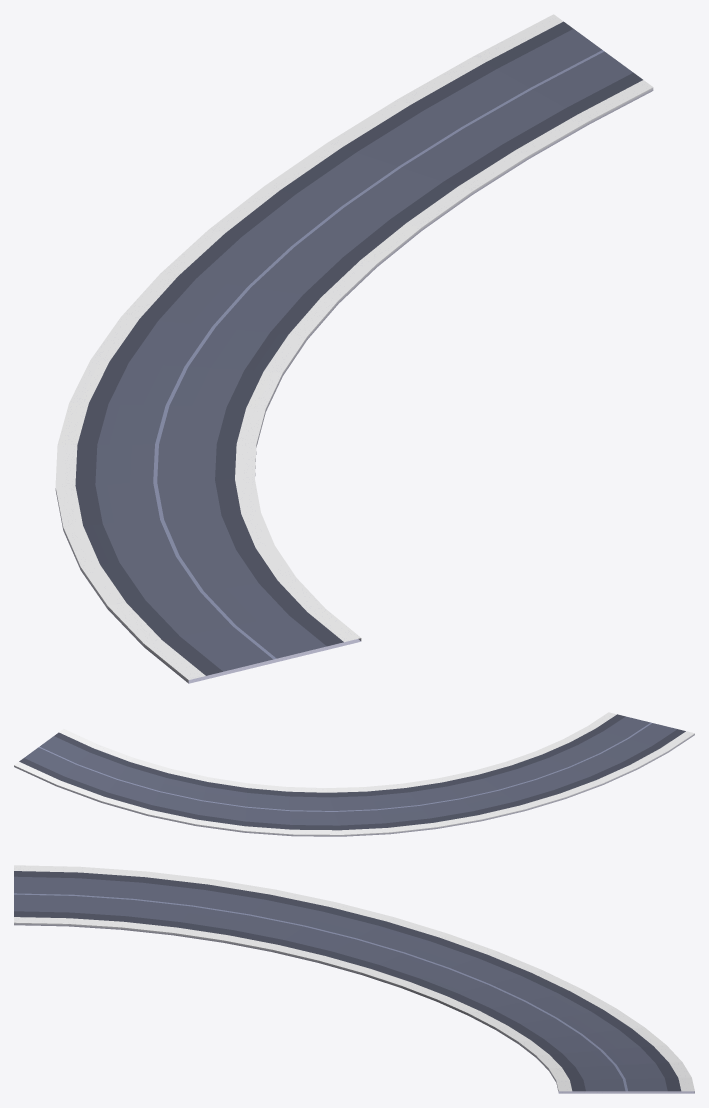
Rendered from road-Turn-Flat-BiSlopeUp-Up2-Right-Size5.glb.
The picture shows the model from 3 angles, top to bottom: view 1: azimuth 30°, elevation 25°; view 2: azimuth 150°, elevation 25°; view 3: azimuth 270°, elevation 25°; orthographic projection. The views are drawn at different scales.
Visible parts, largest first — view 1: road-Turn-Flat-BiSlopeUp-Up2-Right-Size5; view 2: road-Turn-Flat-BiSlopeUp-Up2-Right-Size5; view 3: road-Turn-Flat-BiSlopeUp-Up2-Right-Size5.
Part boxes in pixels (bbox=[...]): road-Turn-Flat-BiSlopeUp-Up2-Right-Size5: bbox=[55, 14, 653, 683]; road-Turn-Flat-BiSlopeUp-Up2-Right-Size5: bbox=[14, 712, 694, 836]; road-Turn-Flat-BiSlopeUp-Up2-Right-Size5: bbox=[14, 865, 694, 1093].
Size of the model in its own units: 5 by 0.5438 by 5.
Materials: 1 (1 with a texture image).
